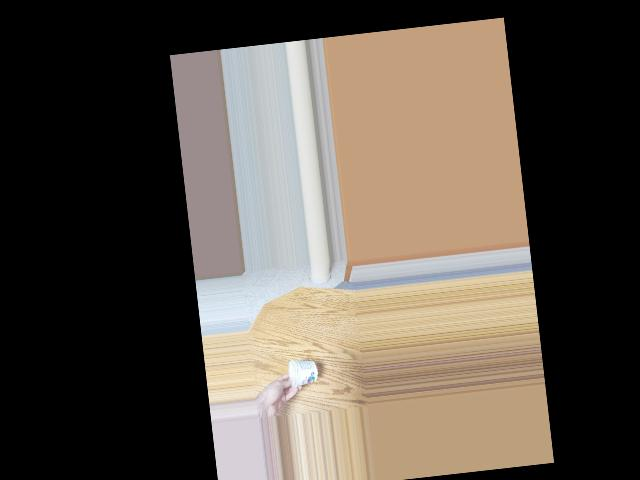cotage: (281, 352, 317, 391)
